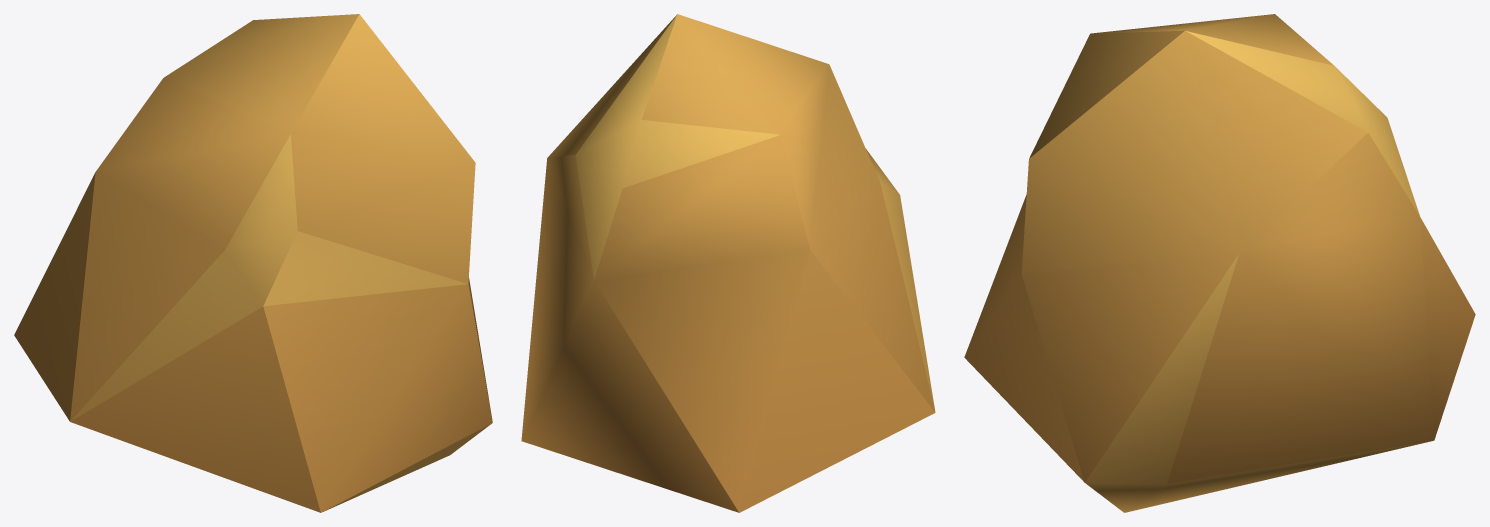
The model's file is Gold_Nugget_Medium.glb.
3 renders of one model, left to right at view 1: azimuth 30°, elevation 25°; view 2: azimuth 150°, elevation 25°; view 3: azimuth 270°, elevation 25°, orthographic. The views are drawn at different scales.
Visible parts, largest first — view 1: Gold_Nugget_Medium; view 2: Gold_Nugget_Medium; view 3: Gold_Nugget_Medium.
Part boxes in pixels (box(x1,y1,x2,y2)): Gold_Nugget_Medium: box(14, 14, 492, 512); Gold_Nugget_Medium: box(521, 14, 935, 512); Gold_Nugget_Medium: box(964, 14, 1475, 512).
Size of the model in its own units: 0.2589 by 0.2781 by 0.2819.
Materials: 1 (1 with a texture image).
